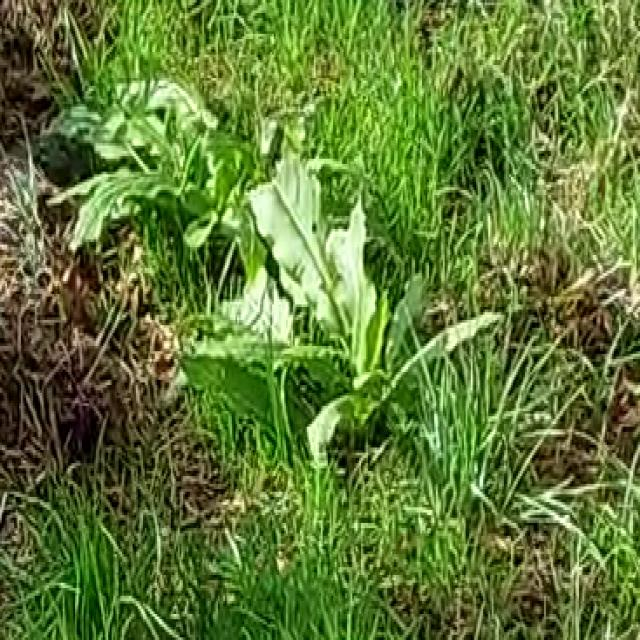organic waste: (87, 49, 488, 487)
